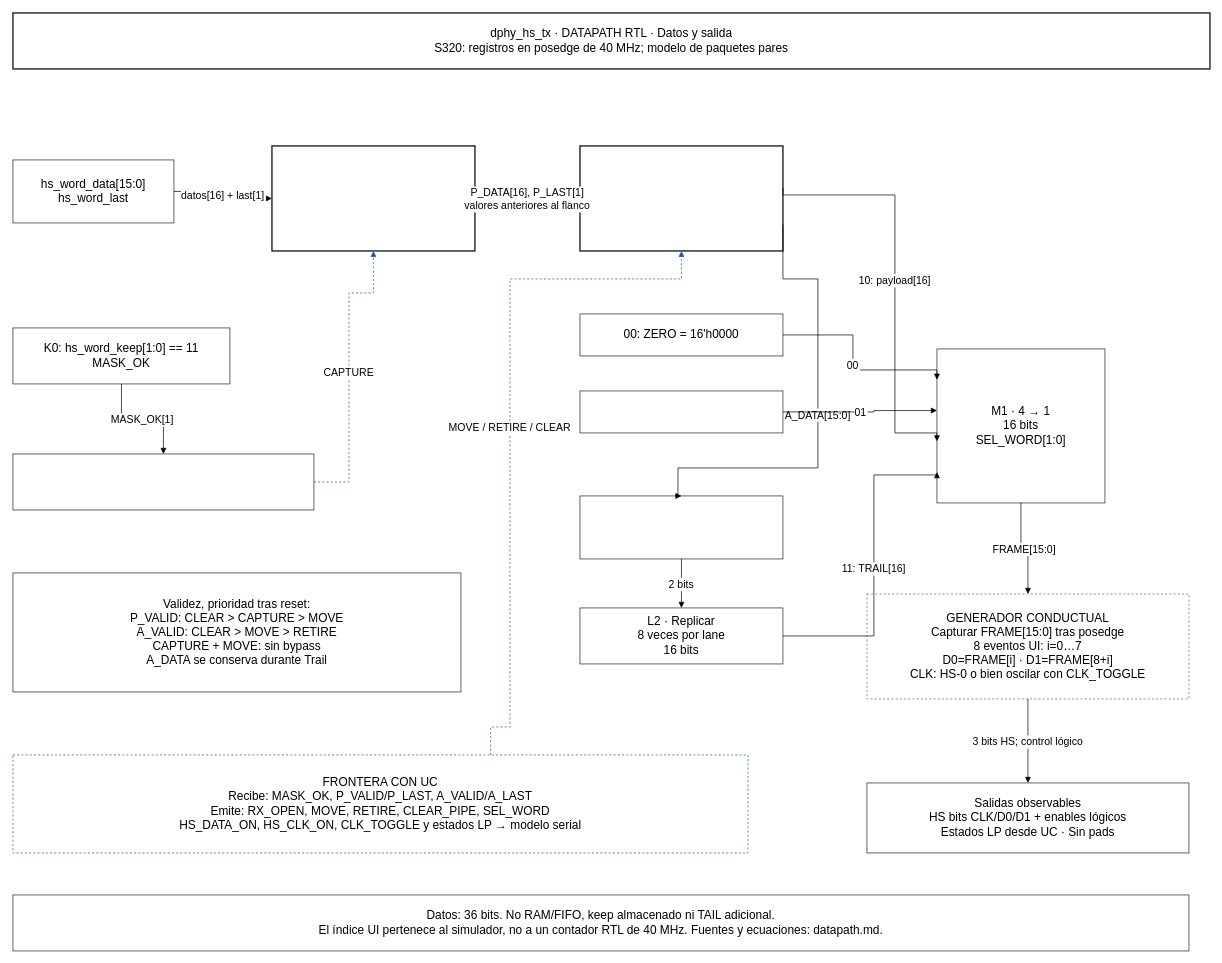
The diagram is 1222 pixels wide and 963 high, and some of its shapes have lost their labels. The shapes that lost their labels are listed below. From the top down, each one's box as (x1, y1, x2, y2) in pixels, then its label:
(271, 145, 475, 251): PENDING P_DATA[15:0] P_LAST · P_VALID 18 bits · enable CAPTURE
(579, 145, 783, 251): ACTIVE A_DATA[15:0] A_LAST · A_VALID 18 bits · enable MOVE
(579, 390, 783, 433): 01: SYNC = 16'hB8B8
(12, 453, 314, 510): L0: CAPTURE = RX_OPEN & valid & grant & MASK_OK & !rst & !abort
(579, 495, 783, 559): L1 · Extraer e invertir D0: ~A_DATA[7] D1: ~A_DATA[15]
